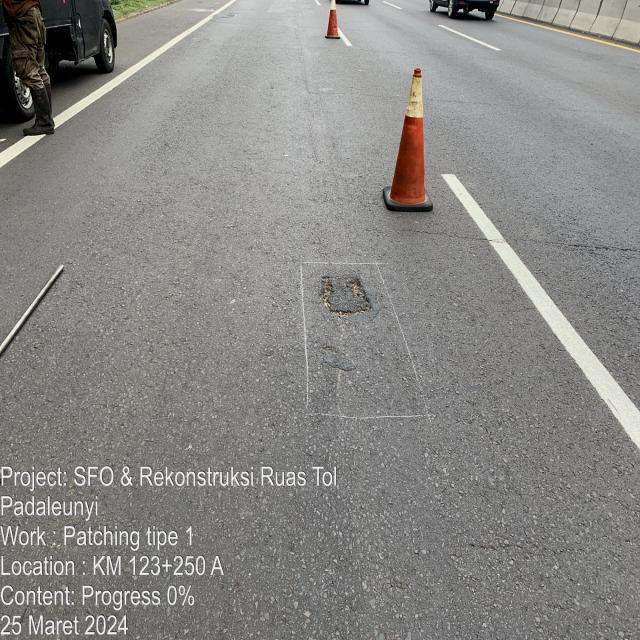Buraco: (317, 274, 375, 320)
